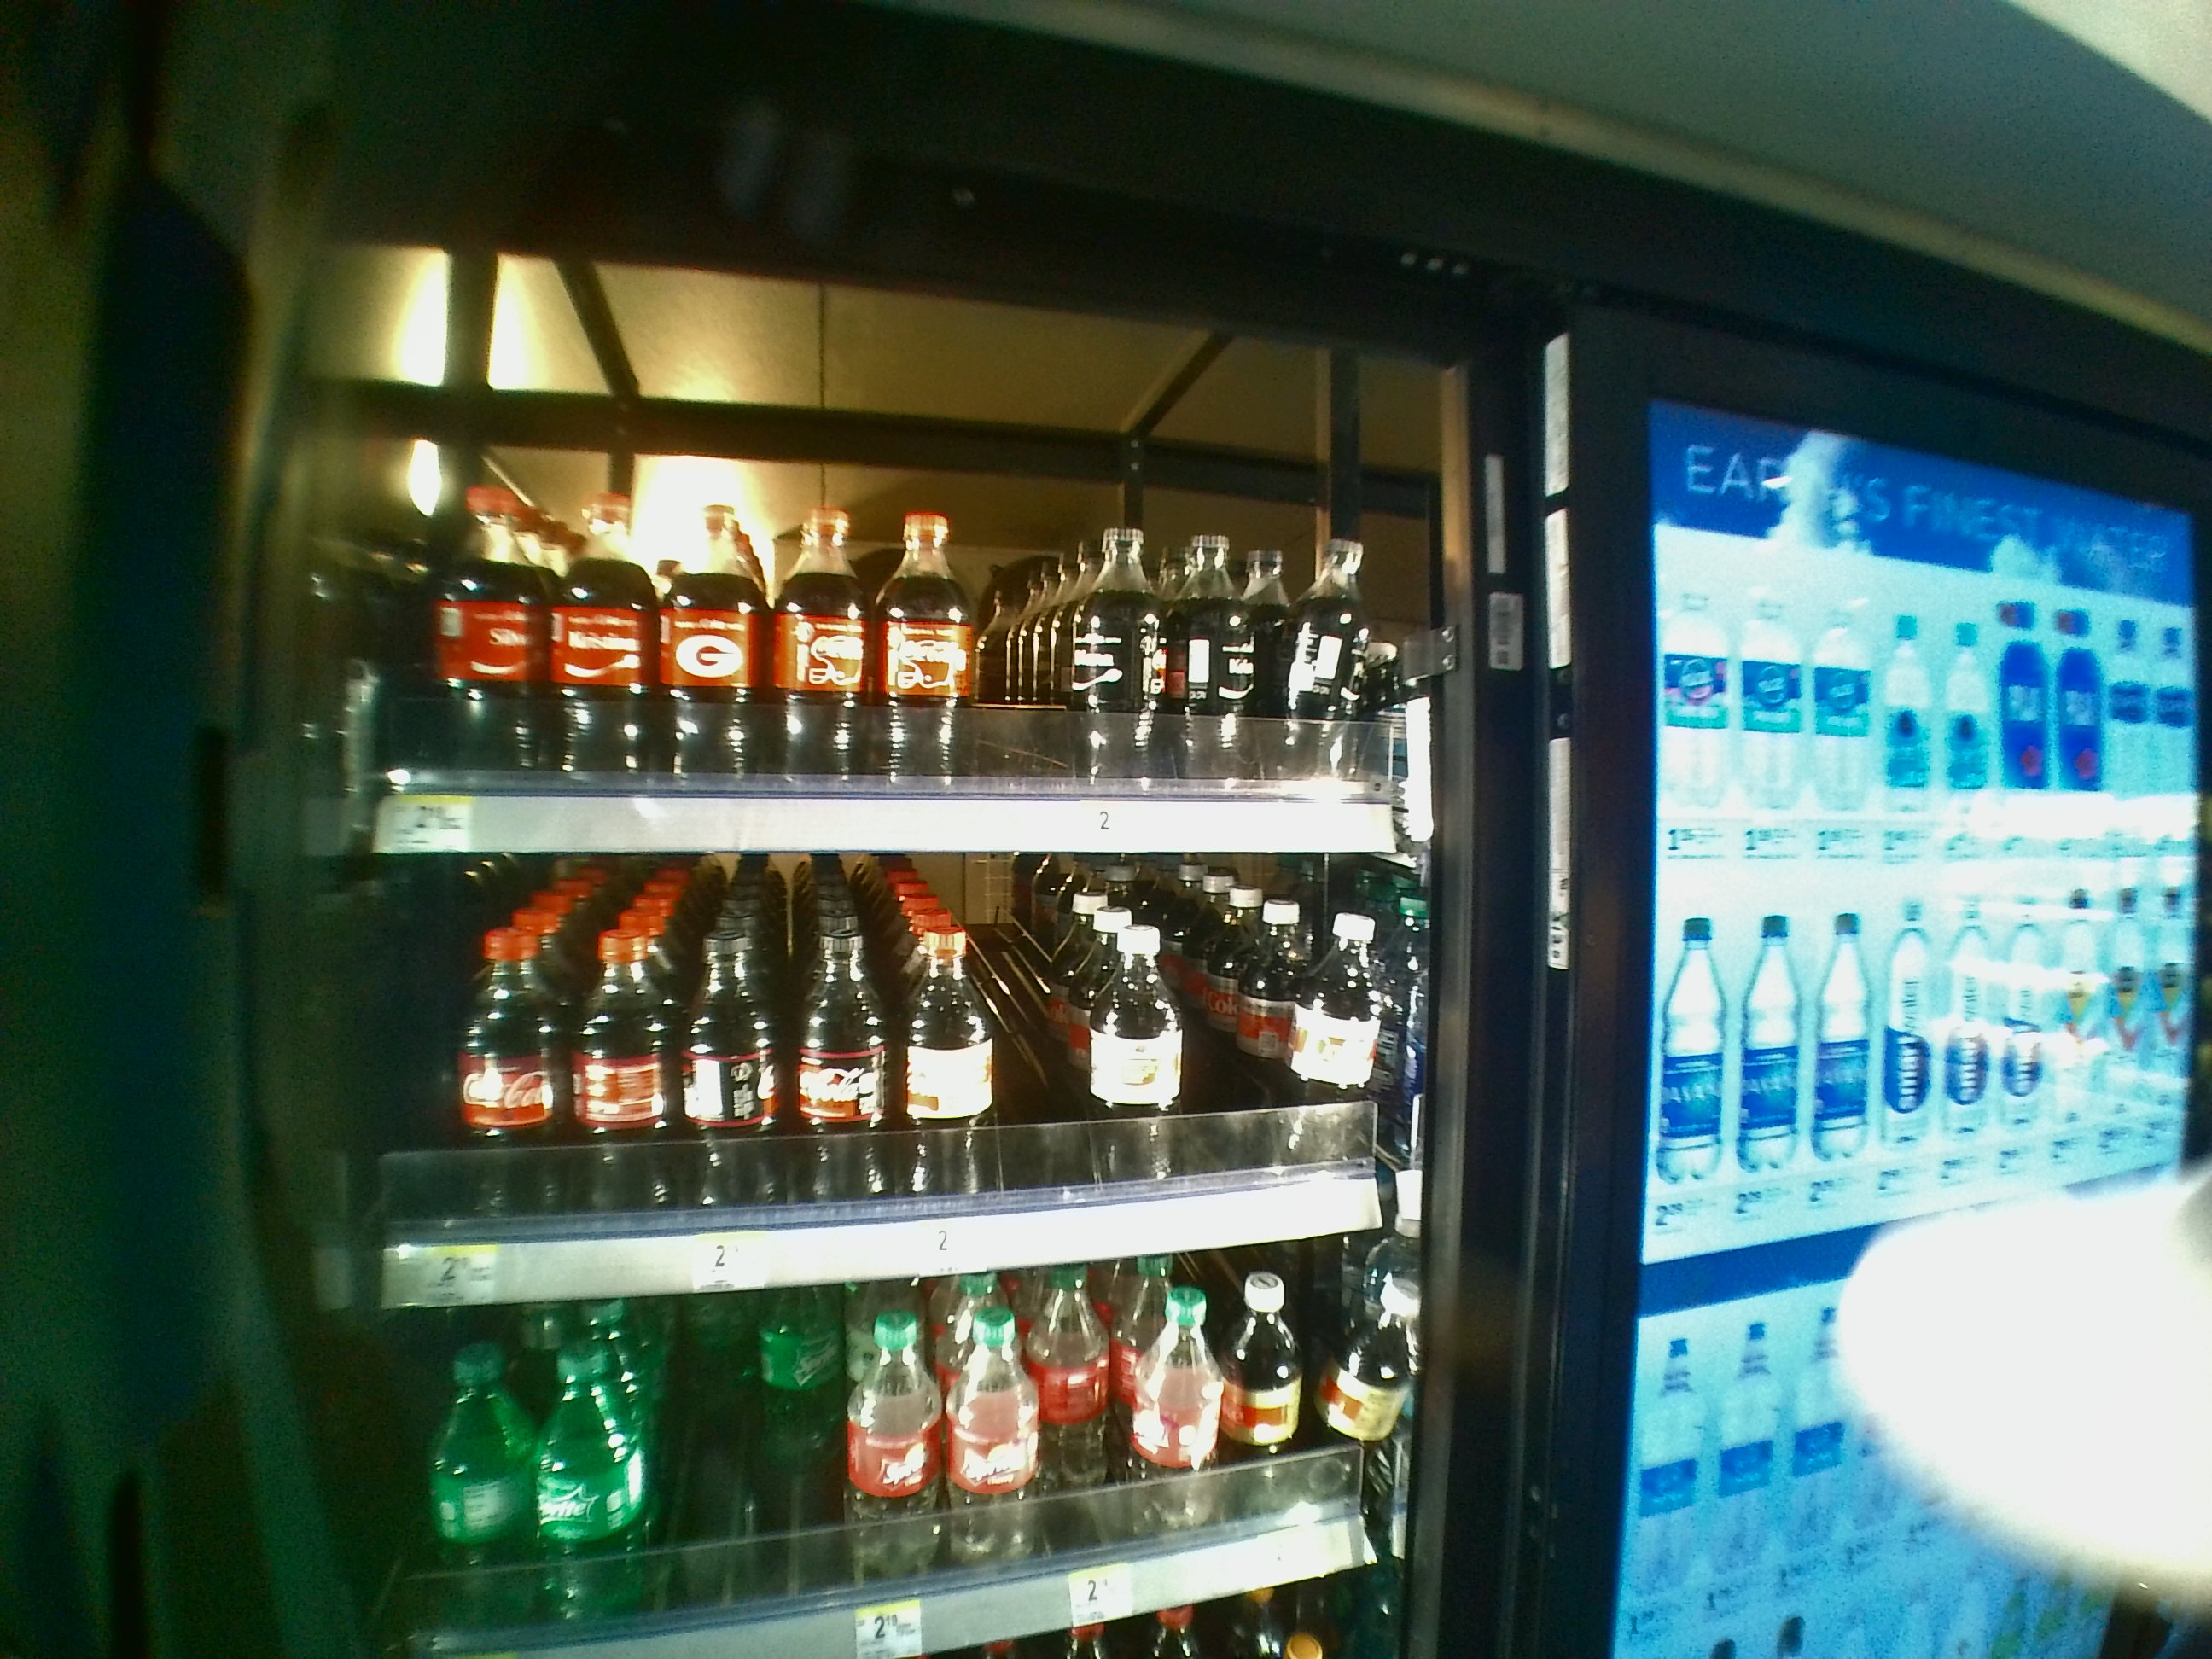shelf: (369, 362, 1393, 854), (366, 871, 1378, 1309)
